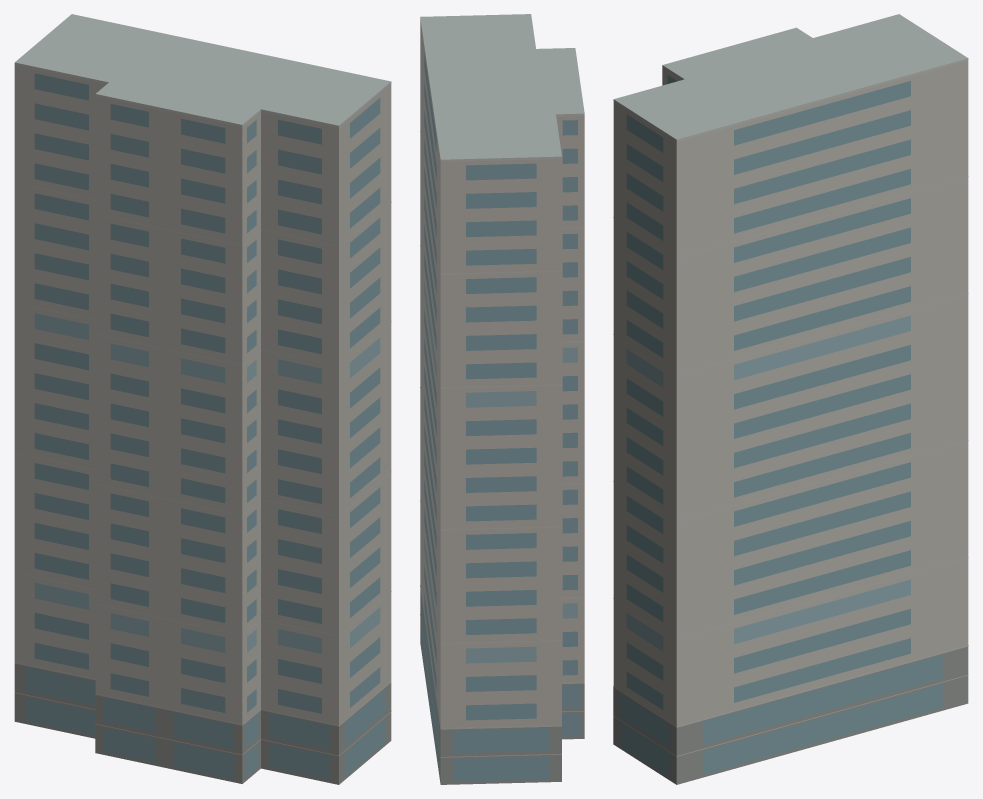
File: residential-fd13fd8b-faa0-4a07-9912-3e92256449c7.glb
3 renders of one model, left to right at view 1: azimuth 30°, elevation 25°; view 2: azimuth 150°, elevation 25°; view 3: azimuth 270°, elevation 25°, orthographic. The views are drawn at different scales.
Visible parts, largest first — view 1: residential-fd13fd8b-faa0-4a07-9912-3e92256449c7.tmp; view 2: residential-fd13fd8b-faa0-4a07-9912-3e92256449c7.tmp; view 3: residential-fd13fd8b-faa0-4a07-9912-3e92256449c7.tmp.
Part boxes in pixels (<box>): residential-fd13fd8b-faa0-4a07-9912-3e92256449c7.tmp: <box>14,14,391,784</box>; residential-fd13fd8b-faa0-4a07-9912-3e92256449c7.tmp: <box>420,14,584,784</box>; residential-fd13fd8b-faa0-4a07-9912-3e92256449c7.tmp: <box>613,14,968,784</box>.
Bounding box in the file's own units: 28.01 × 67 × 33.42.
